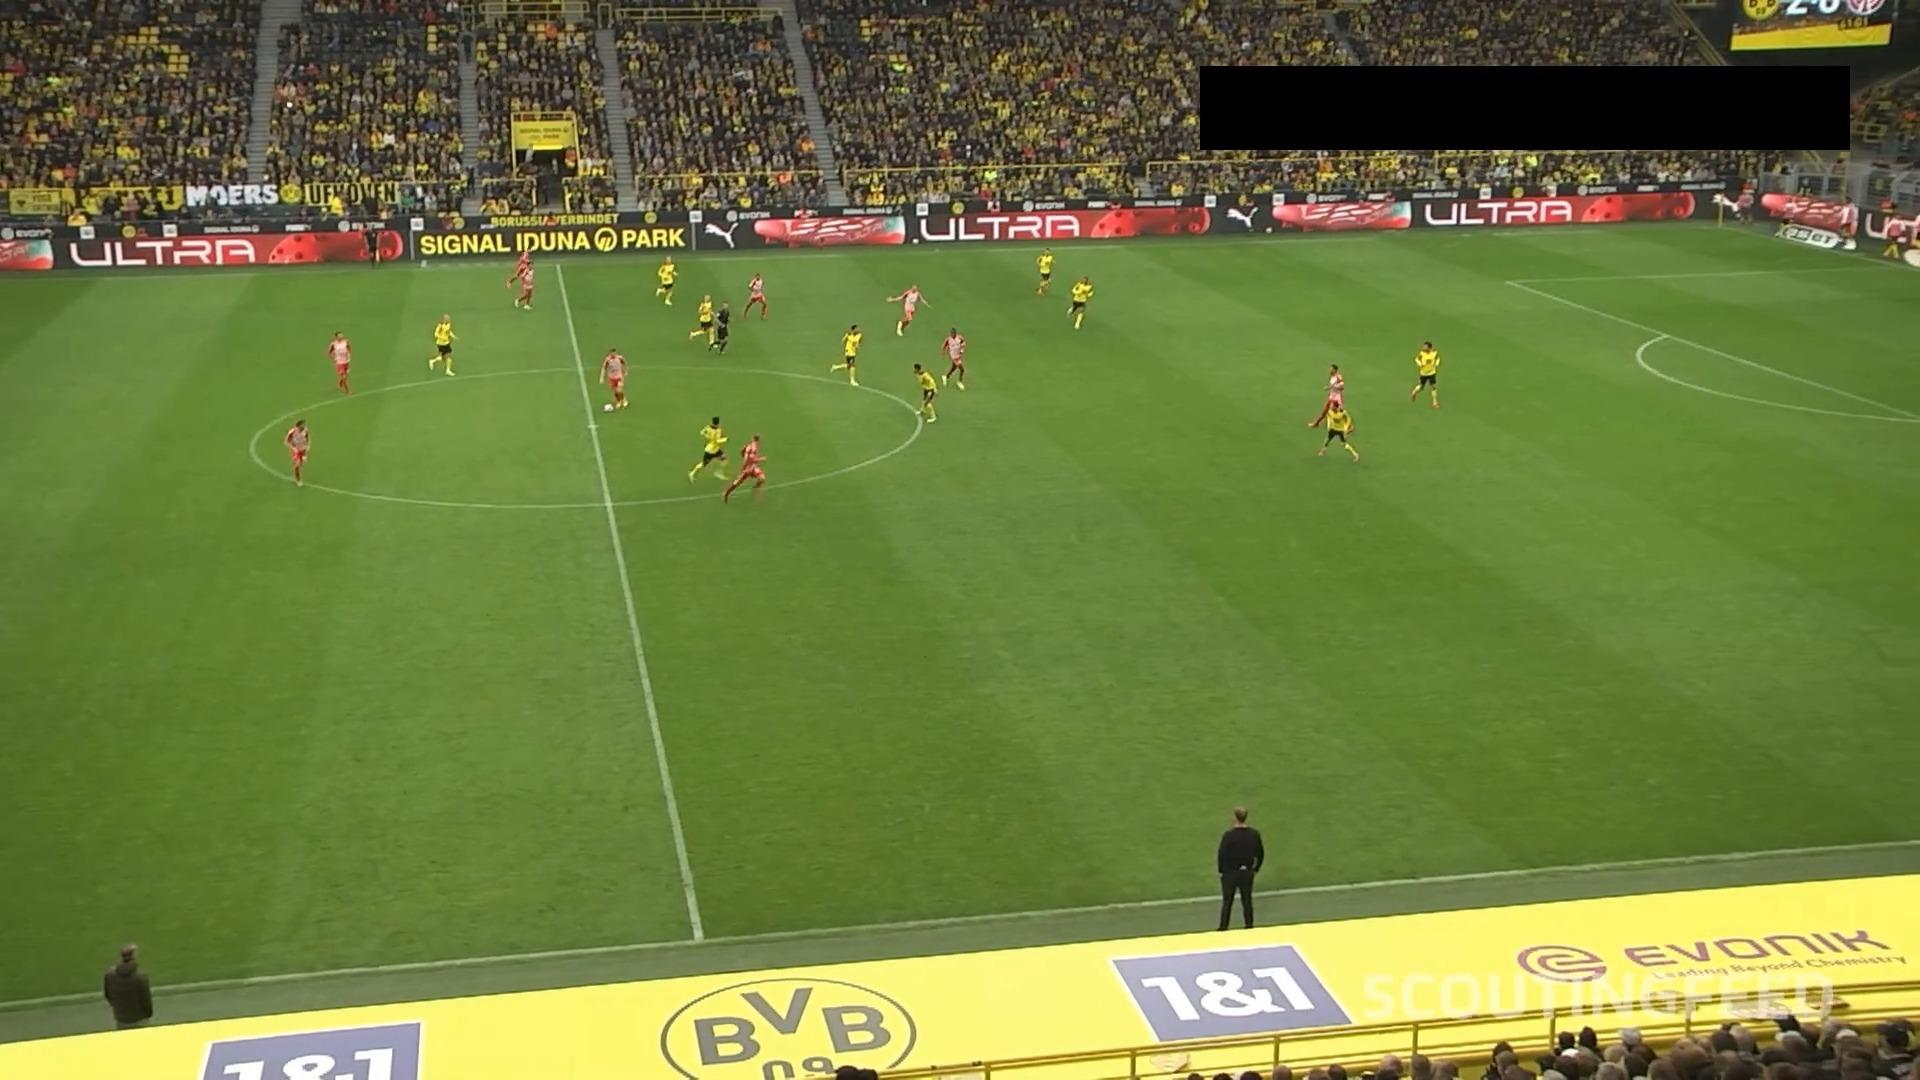ball: (603, 401, 616, 414)
